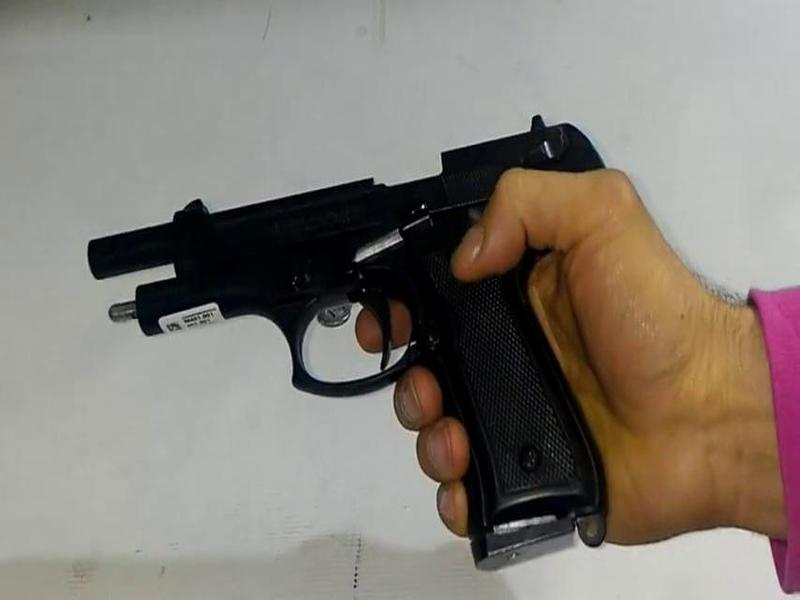Pistola: (77, 107, 646, 577)
